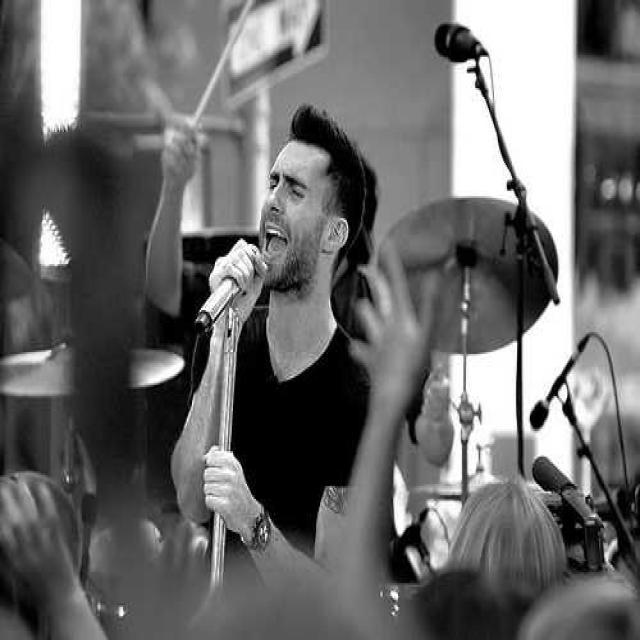microphone: (196, 240, 262, 332), (434, 22, 484, 65)
